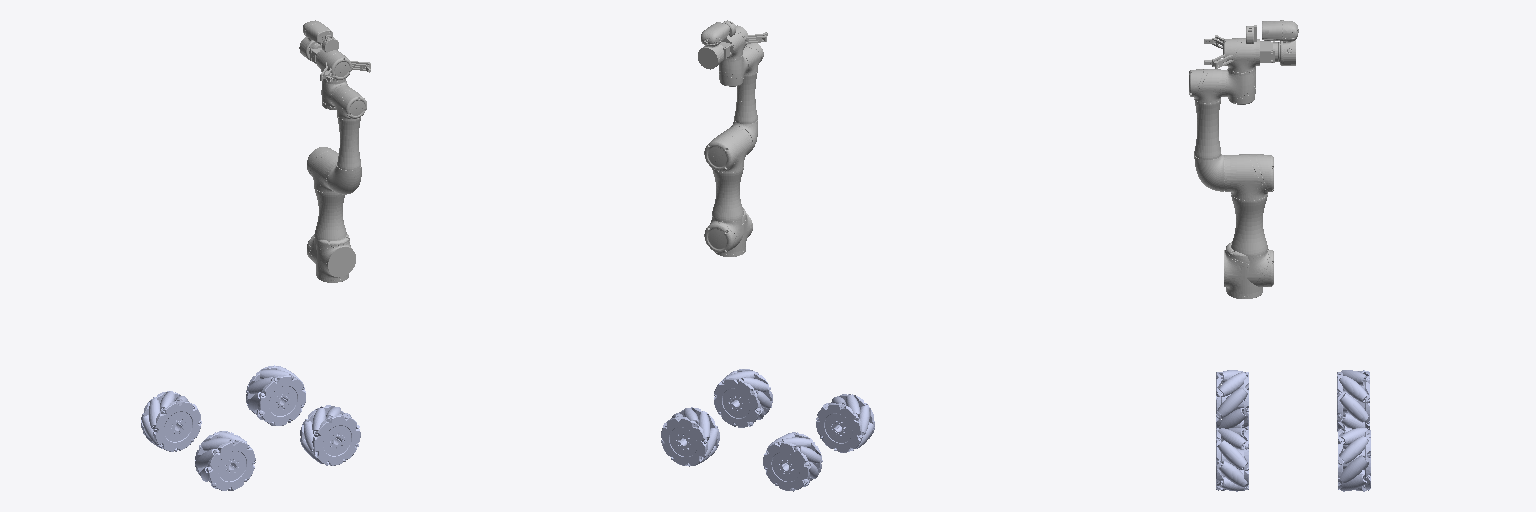
robot.urdf — robot_urdf:
<?xml version="1.0" encoding="utf-8"?>
<!-- This URDF was automatically created by SolidWorks to URDF Exporter! Originally created by [author] ([email redacted]) 
     Commit Version: 1.5.1-0-g916b5db  Build Version: 1.5.7152.31018
     For more information, please see http://wiki.ros.org/sw_urdf_exporter -->
<robot
  name="robot_urdf">
  <link
    name="base_link">
    <inertial>
      <origin
        xyz="-0.196606459038015 0.159554076614301 -0.273511091504777"
        rpy="0 0 0" />
      <mass
        value="26.726696863159" />
      <inertia
        ixx="0.245199141981758"
        ixy="-0.00946027391407056"
        ixz="0.00114579576490531"
        iyy="0.391840709510225"
        iyz="0.00568905195018926"
        izz="0.547509775056932" />
    </inertial>
    <visual>
      <origin
        xyz="0 0 0"
        rpy="0 0 0" />
      <geometry>
        <mesh
          filename="package://robot_urdf/meshes/base_link.STL" />
      </geometry>
      <material
        name="">
        <color
          rgba="0.752941176470588 0.752941176470588 0.752941176470588 1" />
      </material>
    </visual>
    <collision>
      <origin
        xyz="0 0 0"
        rpy="0 0 0" />
      <geometry>
        <mesh
          filename="package://robot_urdf/meshes/base_link.STL" />
      </geometry>
    </collision>
  </link>
  <link
    name="wheel_F_L">
    <inertial>
      <origin
        xyz="1.07648561544771E-05 6.80263411336202E-05 -0.0503799276000488"
        rpy="0 0 0" />
      <mass
        value="1.53947593448723" />
      <inertia
        ixx="0.00231502038275002"
        ixy="1.27374968092606E-06"
        ixz="-5.49660694018323E-10"
        iyy="0.00231832385423594"
        iyz="-1.75624503670963E-08"
        izz="0.00379050648843949" />
    </inertial>
    <visual>
      <origin
        xyz="0 0 0"
        rpy="0 0 0" />
      <geometry>
        <mesh
          filename="package://robot_urdf/meshes/wheel_F_L.STL" />
      </geometry>
      <material
        name="">
        <color
          rgba="0.792156862745098 0.819607843137255 0.933333333333333 1" />
      </material>
    </visual>
    <collision>
      <origin
        xyz="0 0 0"
        rpy="0 0 0" />
      <geometry>
        <mesh
          filename="package://robot_urdf/meshes/wheel_F_L.STL" />
      </geometry>
    </collision>
  </link>
  <joint
    name="FL"
    type="continuous">
    <origin
      xyz="-0.46462 -0.08935 -0.53674"
      rpy="1.5708 -1.5708 0" />
    <parent
      link="base_link" />
    <child
      link="wheel_F_L" />
    <axis
      xyz="0 0 1" />
  </joint>
  <link
    name="wheel_B_L">
    <inertial>
      <origin
        xyz="4.79694490962412E-06 3.3175974175792E-05 -0.050620191174013"
        rpy="0 0 0" />
      <mass
        value="1.53948734867329" />
      <inertia
        ixx="0.00231467622503237"
        ixy="5.74986323218259E-07"
        ixz="1.94771618708938E-10"
        iyy="0.00231869831238149"
        iyz="9.48373648930995E-09"
        izz="0.00379052780504458" />
    </inertial>
    <visual>
      <origin
        xyz="0 0 0"
        rpy="0 0 0" />
      <geometry>
        <mesh
          filename="package://robot_urdf/meshes/wheel_B_L.STL" />
      </geometry>
      <material
        name="">
        <color
          rgba="0.792156862745098 0.819607843137255 0.933333333333333 1" />
      </material>
    </visual>
    <collision>
      <origin
        xyz="0 0 0"
        rpy="0 0 0" />
      <geometry>
        <mesh
          filename="package://robot_urdf/meshes/wheel_B_L.STL" />
      </geometry>
    </collision>
  </link>
  <joint
    name="BL"
    type="continuous">
    <origin
      xyz="-0.033116 -0.08935 -0.53677"
      rpy="1.5708 -1.5708 0" />
    <parent
      link="base_link" />
    <child
      link="wheel_B_L" />
    <axis
      xyz="0 0 1" />
  </joint>
  <link
    name="wheel_F_R">
    <inertial>
      <origin
        xyz="-7.45341515417941E-06 3.24527912957118E-05 0.0503797223334211"
        rpy="0 0 0" />
      <mass
        value="1.53948084423571" />
      <inertia
        ixx="0.00231481218460663"
        ixy="-9.29543388955514E-07"
        ixz="-2.34380420274058E-09"
        iyy="0.00231856080097748"
        iyz="1.02336674420067E-08"
        izz="0.00379052736692745" />
    </inertial>
    <visual>
      <origin
        xyz="0 0 0"
        rpy="0 0 0" />
      <geometry>
        <mesh
          filename="package://robot_urdf/meshes/wheel_F_R.STL" />
      </geometry>
      <material
        name="">
        <color
          rgba="0.792156862745098 0.819607843137255 0.933333333333333 1" />
      </material>
    </visual>
    <collision>
      <origin
        xyz="0 0 0"
        rpy="0 0 0" />
      <geometry>
        <mesh
          filename="package://robot_urdf/meshes/wheel_F_R.STL" />
      </geometry>
    </collision>
  </link>
  <joint
    name="FR"
    type="continuous">
    <origin
      xyz="-0.46462 0.39675 -0.53674"
      rpy="1.5708 -1.5708 0" />
    <parent
      link="base_link" />
    <child
      link="wheel_F_R" />
    <axis
      xyz="0 0 1" />
  </joint>
  <link
    name="wheel_B_R">
    <inertial>
      <origin
        xyz="-2.70104590549547E-06 3.33887780730874E-05 0.0506200738359986"
        rpy="0 0 0" />
      <mass
        value="1.53947586206913" />
      <inertia
        ixx="0.00231461953096603"
        ixy="-3.29901578122386E-07"
        ixz="6.46119482582403E-09"
        iyy="0.00231873867220941"
        iyz="-1.63334148362116E-08"
        izz="0.00379051740941874" />
    </inertial>
    <visual>
      <origin
        xyz="0 0 0"
        rpy="0 0 0" />
      <geometry>
        <mesh
          filename="package://robot_urdf/meshes/wheel_B_R.STL" />
      </geometry>
      <material
        name="">
        <color
          rgba="0.792156862745098 0.819607843137255 0.933333333333333 1" />
      </material>
    </visual>
    <collision>
      <origin
        xyz="0 0 0"
        rpy="0 0 0" />
      <geometry>
        <mesh
          filename="package://robot_urdf/meshes/wheel_B_R.STL" />
      </geometry>
    </collision>
  </link>
  <joint
    name="BR"
    type="continuous">
    <origin
      xyz="-0.033153 0.39725 -0.53677"
      rpy="1.5708 -1.5708 0" />
    <parent
      link="base_link" />
    <child
      link="wheel_B_R" />
    <axis
      xyz="0 0 1" />
  </joint>
  <link
    name="Link1">
    <inertial>
      <origin
        xyz="0.00516519390805298 -3.95566052726119E-07 -0.0016792926108159"
        rpy="0 0 0" />
      <mass
        value="1.94965748006371" />
      <inertia
        ixx="0.0033558938483111"
        ixy="3.60894491269772E-09"
        ixz="-0.000490266027260296"
        iyy="0.00342351141560238"
        iyz="-3.67588275306507E-09"
        izz="0.00374799670663445" />
    </inertial>
    <visual>
      <origin
        xyz="0 0 0"
        rpy="0 0 0" />
      <geometry>
        <mesh
          filename="package://robot_urdf/meshes/Link1.STL" />
      </geometry>
      <material
        name="">
        <color
          rgba="0.752941176470588 0.752941176470588 0.752941176470588 1" />
      </material>
    </visual>
    <collision>
      <origin
        xyz="0 0 0"
        rpy="0 0 0" />
      <geometry>
        <mesh
          filename="package://robot_urdf/meshes/Link1.STL" />
      </geometry>
    </collision>
  </link>
  <joint
    name="J1"
    type="continuous">
    <origin
      xyz="0 0 0.1475"
      rpy="0 0 -1.5708" />
    <parent
      link="base_link" />
    <child
      link="Link1" />
    <axis
      xyz="0 0 1" />
    <limit
      lower="-4.7124"
      upper="4.7124"
      effort="150"
      velocity="3.15" />
    <dynamics
      damping="0"
      friction="0" />
    <safety_controller
      soft_upper="4.5623"
      soft_lower="-4.5623"
      k_position="20"
      k_velocity="0" />
  </joint>
  <link
    name="Link2">
    <inertial>
      <origin
        xyz="0.166798975963922 1.47320631590959E-06 -0.0802983456188538"
        rpy="0 0 0" />
      <mass
        value="5.44943642021461" />
      <inertia
        ixx="0.00871992317958262"
        ixy="-5.4856454937054E-08"
        ixz="-1.03461993329118E-08"
        iyy="0.0140432120160902"
        iyz="3.57152574860027E-08"
        izz="0.0146920619977532" />
    </inertial>
    <visual>
      <origin
        xyz="0 0 0"
        rpy="0 0 0" />
      <geometry>
        <mesh
          filename="package://robot_urdf/meshes/Link2.STL" />
      </geometry>
      <material
        name="">
        <color
          rgba="0.752941176470588 0.752941176470588 0.752941176470588 1" />
      </material>
    </visual>
    <collision>
      <origin
        xyz="0 0 0"
        rpy="0 0 0" />
      <geometry>
        <mesh
          filename="package://robot_urdf/meshes/Link2.STL" />
      </geometry>
    </collision>
  </link>
  <joint
    name="J2"
    type="continuous">
    <origin
      xyz="0.0668 0 0"
      rpy="3.1416 -1.5708 0" />
    <parent
      link="Link1" />
    <child
      link="Link2" />
    <axis
      xyz="0 0 1" />
    <limit
      lower="-3.1416"
      upper="3.1416"
      effort="150"
      velocity="3.15" />
    <dynamics
      damping="0"
      friction="0" />
    <safety_controller
      soft_upper="2.9915"
      soft_lower="-2.9915"
      k_position="20"
      k_velocity="0" />
  </joint>
  <link
    name="Link3">
    <inertial>
      <origin
        xyz="0.163906865228972 0.000129965396235146 0.042182877508537"
        rpy="0 0 0" />
      <mass
        value="2.38409152064763" />
      <inertia
        ixx="0.00442717649200486"
        ixy="-5.95806870812063E-07"
        ixz="-4.24956917405155E-05"
        iyy="0.0105495126164853"
        iyz="-2.05730074973878E-05"
        izz="0.00353203977106911" />
    </inertial>
    <visual>
      <origin
        xyz="0 0 0"
        rpy="0 0 0" />
      <geometry>
        <mesh
          filename="package://robot_urdf/meshes/Link3.STL" />
      </geometry>
      <material
        name="">
        <color
          rgba="0.752941176470588 0.752941176470588 0.752941176470588 1" />
      </material>
    </visual>
    <collision>
      <origin
        xyz="0 0 0"
        rpy="0 0 0" />
      <geometry>
        <mesh
          filename="package://robot_urdf/meshes/Link3.STL" />
      </geometry>
    </collision>
  </link>
  <joint
    name="J3"
    type="continuous">
    <origin
      xyz="0.3336 0 0"
      rpy="0 0 0" />
    <parent
      link="Link2" />
    <child
      link="Link3" />
    <axis
      xyz="0 0 1" />
    <limit
      lower="-3.1416"
      upper="3.1416"
      effort="150"
      velocity="3.15" />
    <dynamics
      damping="0"
      friction="0" />
    <safety_controller
      soft_upper="2.9915"
      soft_lower="-2.9915"
      k_position="20"
      k_velocity="0" />
  </joint>
  <link
    name="Link4">
    <inertial>
      <origin
        xyz="6.40693201658937E-05 -4.23991766818566E-06 -0.0455850272994715"
        rpy="0 0 0" />
      <mass
        value="0.784288127694868" />
      <inertia
        ixx="0.000826321885545378"
        ixy="-5.94152792244425E-08"
        ixz="0.000112733093053267"
        iyy="0.000778159785612285"
        iyz="-1.12895437137984E-07"
        izz="0.00076519536746294" />
    </inertial>
    <visual>
      <origin
        xyz="0 0 0"
        rpy="0 0 0" />
      <geometry>
        <mesh
          filename="package://robot_urdf/meshes/Link4.STL" />
      </geometry>
      <material
        name="">
        <color
          rgba="0.752941176470588 0.752941176470588 0.752941176470588 1" />
      </material>
    </visual>
    <collision>
      <origin
        xyz="0 0 0"
        rpy="0 0 0" />
      <geometry>
        <mesh
          filename="package://robot_urdf/meshes/Link4.STL" />
      </geometry>
    </collision>
  </link>
  <joint
    name="J4"
    type="continuous">
    <origin
      xyz="0.3159 0 -0.008"
      rpy="0 0 0" />
    <parent
      link="Link3" />
    <child
      link="Link4" />
    <axis
      xyz="0 0 1" />
    <limit
      lower="-3.1416"
      upper="3.1416"
      effort="150"
      velocity="3.15" />
    <dynamics
      damping="0"
      friction="0" />
    <safety_controller
      soft_upper="2.9915"
      soft_lower="-2.9915"
      k_position="20"
      k_velocity="0" />
  </joint>
  <link
    name="Link5">
    <inertial>
      <origin
        xyz="6.4069320214466E-05 4.23991767492399E-06 0.0455850272994934"
        rpy="0 0 0" />
      <mass
        value="0.784288127694147" />
      <inertia
        ixx="0.000826321885544634"
        ixy="5.94152793307062E-08"
        ixz="-0.000112733093052943"
        iyy="0.000778159785611345"
        iyz="-1.12895436951309E-07"
        izz="0.000765195367462954" />
    </inertial>
    <visual>
      <origin
        xyz="0 0 0"
        rpy="0 0 0" />
      <geometry>
        <mesh
          filename="package://robot_urdf/meshes/Link5.STL" />
      </geometry>
      <material
        name="">
        <color
          rgba="0.752941176470588 0.752941176470588 0.752941176470588 1" />
      </material>
    </visual>
    <collision>
      <origin
        xyz="0 0 0"
        rpy="0 0 0" />
      <geometry>
        <mesh
          filename="package://robot_urdf/meshes/Link5.STL" />
      </geometry>
    </collision>
  </link>
  <joint
    name="J5"
    type="continuous">
    <origin
      xyz="0.0585 0 -0.0497"
      rpy="0 1.5708 0" />
    <parent
      link="Link4" />
    <child
      link="Link5" />
    <axis
      xyz="0 0 1" />
    <limit
      lower="-3.1416"
      upper="3.1416"
      effort="150"
      velocity="3.15" />
    <dynamics
      damping="0"
      friction="0" />
    <safety_controller
      soft_upper="2.9915"
      soft_lower="-2.9915"
      k_position="20"
      k_velocity="0" />
  </joint>
  <link
    name="Link6">
    <inertial>
      <origin
        xyz="0.0398556740619664 1.38163951512511E-05 -0.00504357182565654"
        rpy="0 0 0" />
      <mass
        value="0.807678471112217" />
      <inertia
        ixx="0.00042987957939551"
        ixy="-1.99779090599955E-06"
        ixz="-9.34852358161014E-06"
        iyy="0.000885238865325597"
        iyz="-5.45581581269392E-07"
        izz="0.00102306042134082" />
    </inertial>
    <visual>
      <origin
        xyz="0 0 0"
        rpy="0 0 0" />
      <geometry>
        <mesh
          filename="package://robot_urdf/meshes/Link6.STL" />
      </geometry>
      <material
        name="">
        <color
          rgba="0.752941176470588 0.752941176470588 0.752941176470588 1" />
      </material>
    </visual>
    <collision>
      <origin
        xyz="0 0 0"
        rpy="0 0 0" />
      <geometry>
        <mesh
          filename="package://robot_urdf/meshes/Link6.STL" />
      </geometry>
    </collision>
  </link>
  <joint
    name="J6"
    type="continuous">
    <origin
      xyz="0.11535 0 0.0497"
      rpy="0 -1.5708 0" />
    <parent
      link="Link5" />
    <child
      link="Link6" />
    <axis
      xyz="0 0 1" />
    <limit
      lower="-4.7124"
      upper="4.7124"
      effort="150"
      velocity="0" />
    <dynamics
      damping="0"
      friction="0" />
    <safety_controller
      soft_upper="4.5623"
      soft_lower="-4.5623"
      k_position="20"
      k_velocity="0" />
  </joint>
</robot>

--- Facts derived from the render (not from the file) ---
Views: 3 orthographic renders of the robot side by side, from view 1: azimuth 30°, elevation 25°; view 2: azimuth 150°, elevation 25°; view 3: azimuth 270°, elevation 25°.
Model robot_urdf with 11 links and 10 joints (10 continuous), rooted at base_link, posed every joint at zero.
Links seen in each view (by area): view 1: Link2, wheel_B_L, wheel_B_R, wheel_F_R, wheel_F_L, Link3, Link6, Link1, Link5; view 2: Link2, wheel_B_L, wheel_B_R, wheel_F_R, wheel_F_L, Link3, Link6, Link4; view 3: Link2, Link3, Link6, wheel_B_R, wheel_B_L, wheel_F_R, wheel_F_L, Link1, Link5, Link4.
Link boxes in pixels (x1,y1,x2,y2): Link2: (307, 147, 348, 276); wheel_B_L: (300, 405, 360, 465); wheel_B_R: (246, 365, 305, 425); wheel_F_R: (141, 391, 201, 451); wheel_F_L: (195, 431, 255, 490); Link3: (328, 85, 366, 194); Link6: (299, 20, 370, 81); Link1: (316, 234, 355, 282); Link5: (316, 49, 351, 80); Link2: (704, 126, 752, 252); wheel_B_L: (714, 369, 772, 427); wheel_B_R: (661, 407, 719, 466); wheel_F_R: (763, 432, 822, 491); wheel_F_L: (816, 394, 874, 452); Link3: (731, 43, 763, 150); Link6: (698, 20, 767, 69); Link4: (719, 55, 747, 86); Link2: (1224, 154, 1273, 286); Link3: (1189, 69, 1225, 191); Link6: (1204, 20, 1298, 68); wheel_B_R: (1338, 427, 1370, 491); wheel_B_L: (1216, 428, 1248, 491); wheel_F_R: (1337, 370, 1369, 431); wheel_F_L: (1216, 370, 1248, 428); Link1: (1224, 242, 1262, 298); Link5: (1223, 38, 1259, 71); Link4: (1226, 67, 1255, 104).
Bounding box of the posed robot: 0.6698 × 0.5761 × 1.65 m (x, y, z).
Meshes: 11 distinct files referenced, 10 mesh visuals loaded (10 binary STL); not drawn: 1 (reference not matched to a file when rendering).